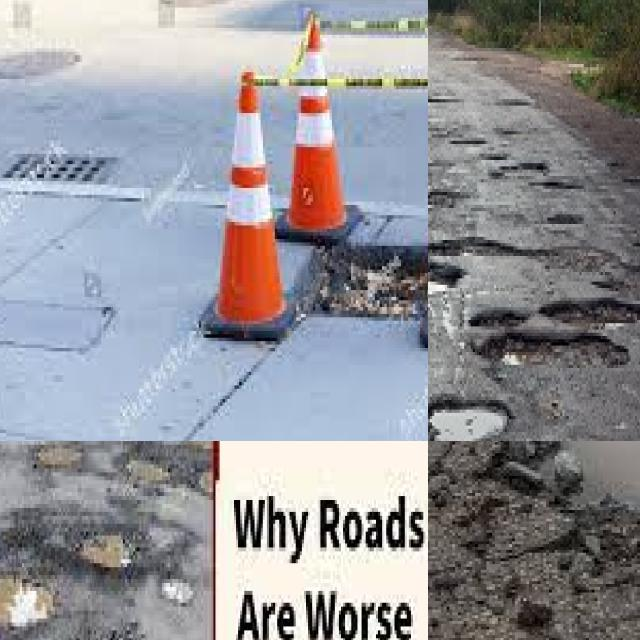Pothole: (284, 242, 428, 328), (428, 240, 640, 290), (479, 339, 628, 371), (541, 301, 640, 326), (492, 160, 571, 182), (82, 536, 125, 571), (127, 457, 170, 484), (34, 449, 82, 472), (434, 416, 475, 435), (0, 579, 18, 622), (428, 189, 460, 210), (471, 314, 524, 326), (547, 208, 586, 224)
